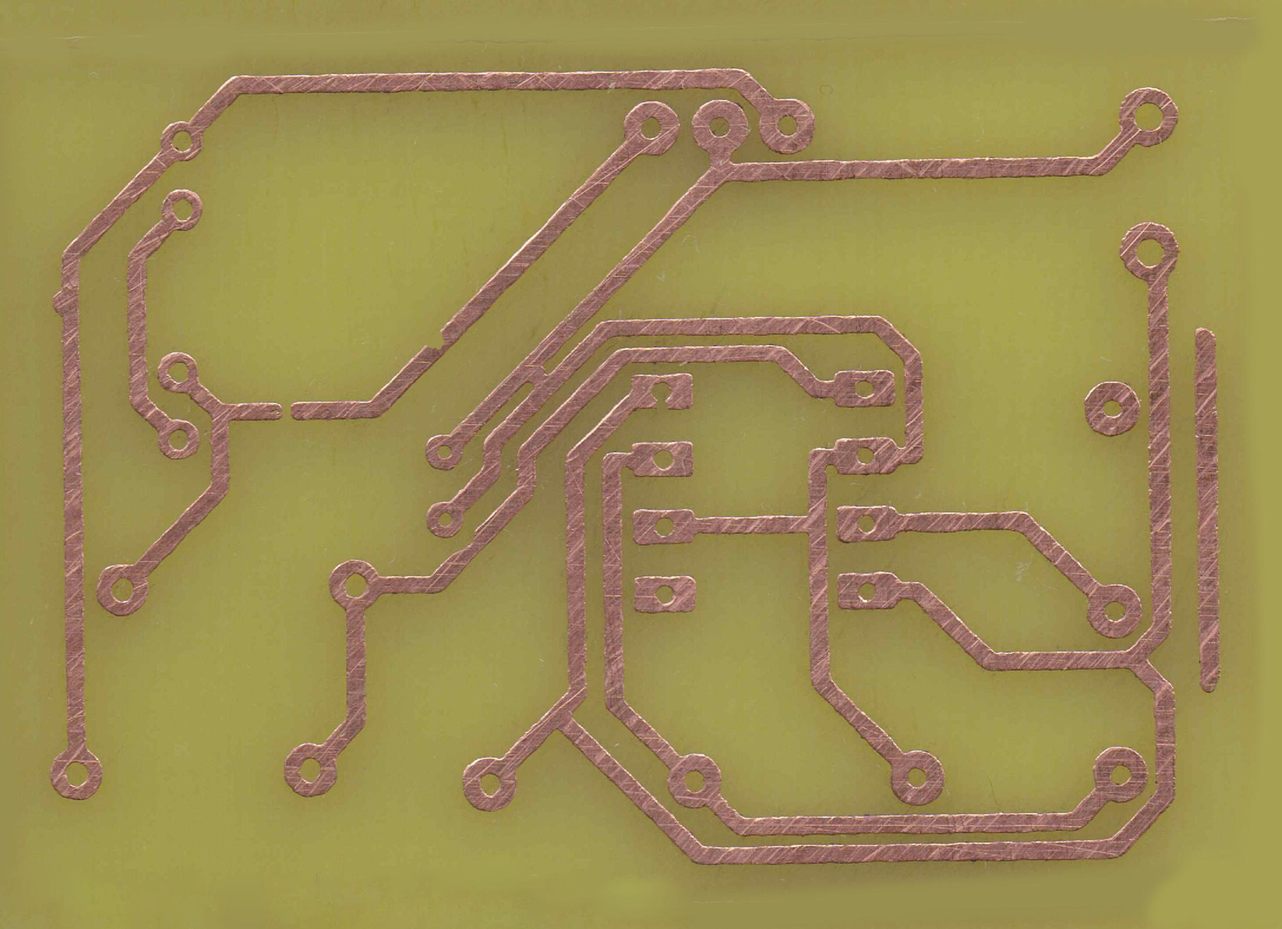missing_hole: (625, 371, 698, 415)
mouse_bite: (422, 328, 456, 356)
open_circuit: (274, 400, 299, 422)
short: (519, 361, 559, 392)
spur: (45, 283, 84, 324)
spurious_copper: (1191, 322, 1227, 697)
